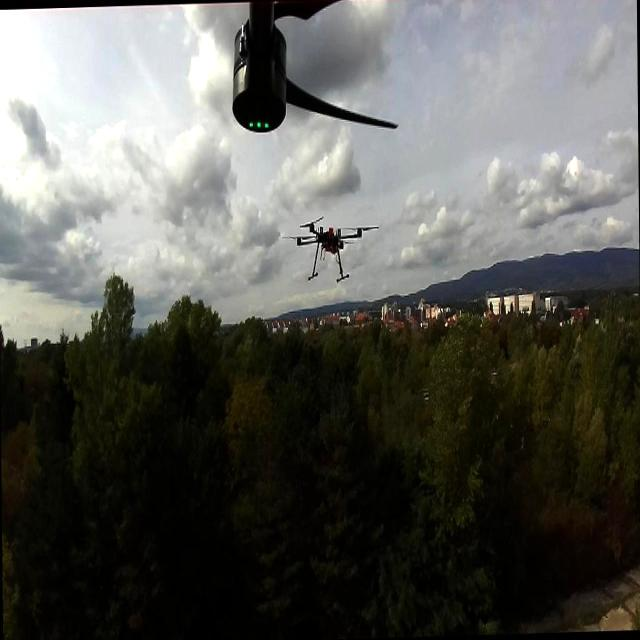drone: (294, 213, 373, 284)
